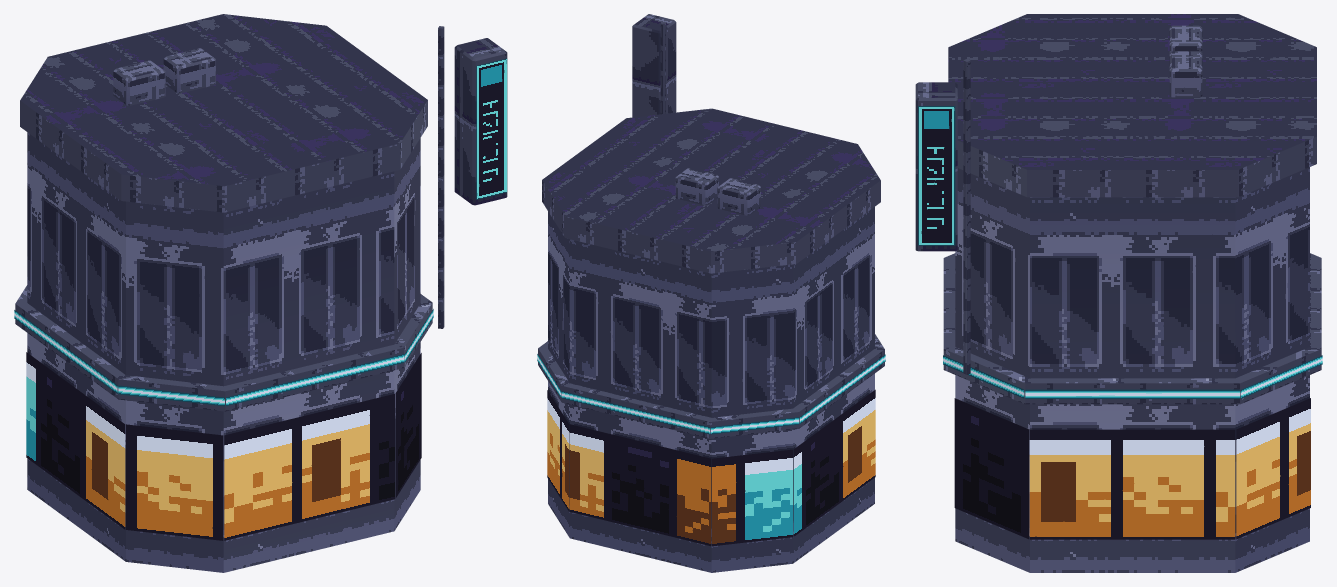
Rendered from cytower.annex.glb.
3 views of the same model, side by side, from view 1: azimuth 30°, elevation 25°; view 2: azimuth 150°, elevation 25°; view 3: azimuth 270°, elevation 25° (orthographic). The views are drawn at different scales.
Parts seen in each view (by area): view 1: kit_block, kit_card_cards, kit_mast; view 2: kit_block, kit_card_cards, kit_mast; view 3: kit_block, kit_card_cards, kit_mast.
Boxes of the visible parts, box(x1,y1,x2,y2) form: kit_block: box(15, 14, 507, 572); kit_card_cards: box(14, 58, 507, 540); kit_mast: box(438, 26, 444, 328); kit_block: box(538, 14, 884, 572); kit_card_cards: box(537, 354, 885, 546); kit_mast: box(660, 22, 665, 114); kit_block: box(915, 14, 1321, 572); kit_card_cards: box(918, 106, 1322, 539); kit_mast: box(963, 59, 970, 374).
Size of the model in its own units: 8.76 by 12 by 8.76.
9 materials, 9 textured.
